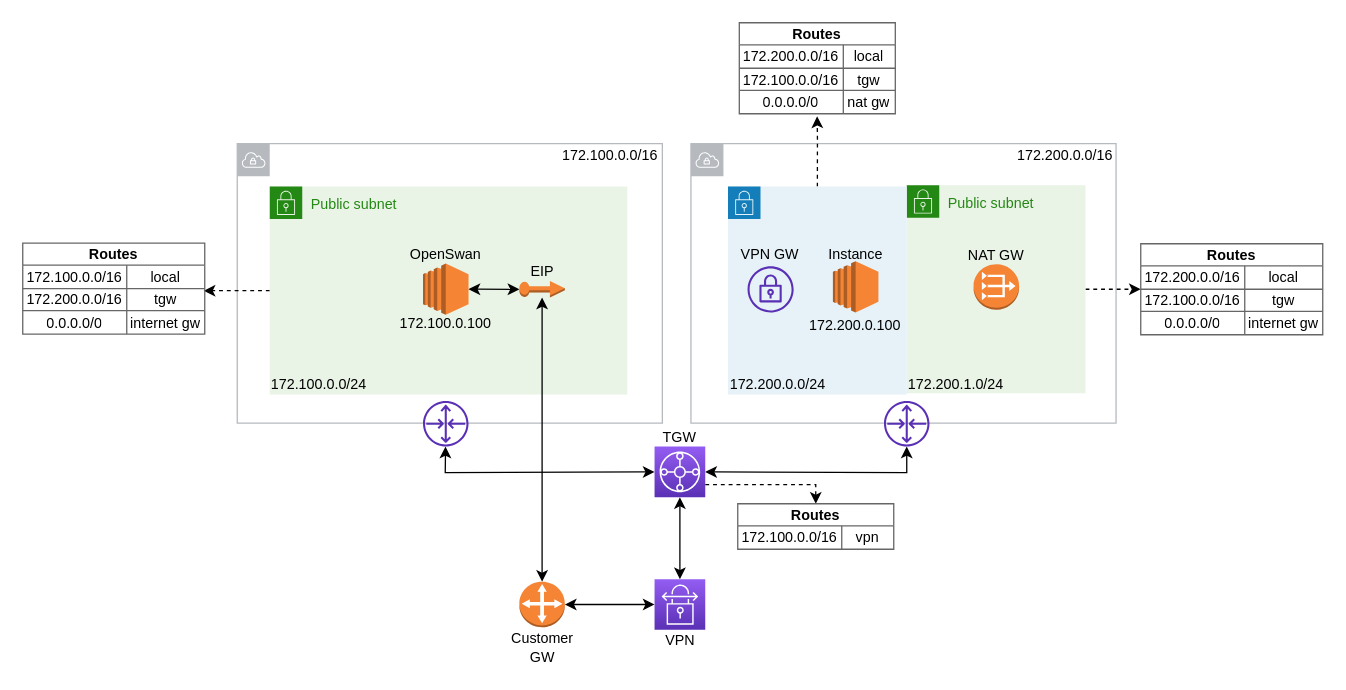
This 1346x690 diagram has some shape labels left out. Each missing label, with the box of its shape:
Private subnet: (727, 185, 907, 395)
VPC A: (236, 142, 662, 423)
VPC B: (690, 142, 1116, 423)
